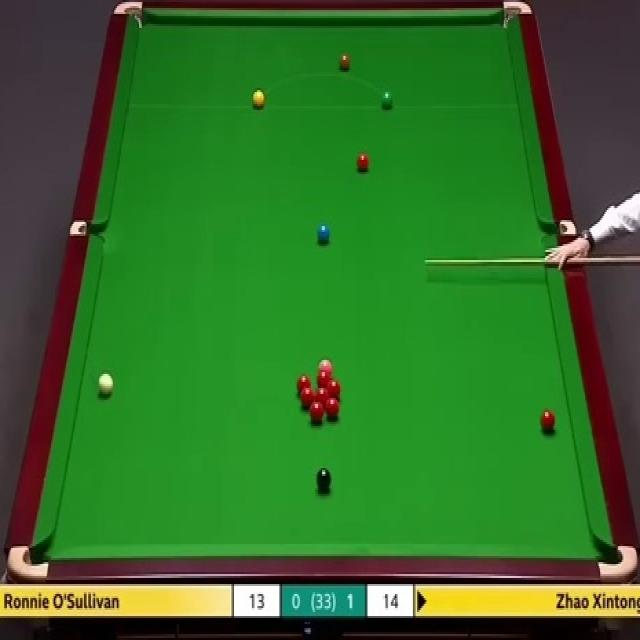black-ball: (316, 468, 331, 490)
blue-ball: (317, 224, 330, 243)
brown-ball: (338, 53, 350, 71)
green-ball: (380, 89, 393, 110)
pink-ball: (318, 358, 332, 373)
red-ball: (540, 409, 555, 432), (310, 402, 324, 424), (300, 387, 313, 409), (296, 375, 310, 395), (356, 153, 369, 174), (315, 390, 329, 408), (326, 399, 339, 418), (319, 371, 334, 387), (328, 381, 338, 398)
white-ball: (98, 372, 114, 397)
yellow-ball: (252, 90, 264, 108)
